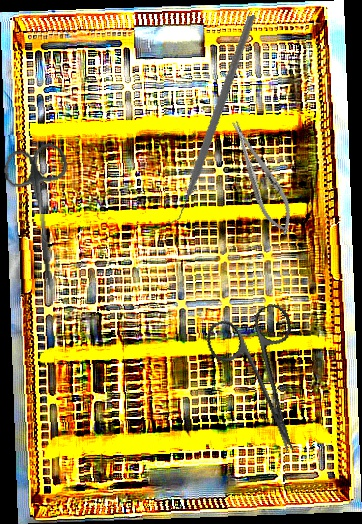Chopper: (121, 14, 294, 227)
Iris Scissors: (201, 301, 329, 465), (1, 141, 84, 294)
Needle Holder: (221, 114, 302, 241)
